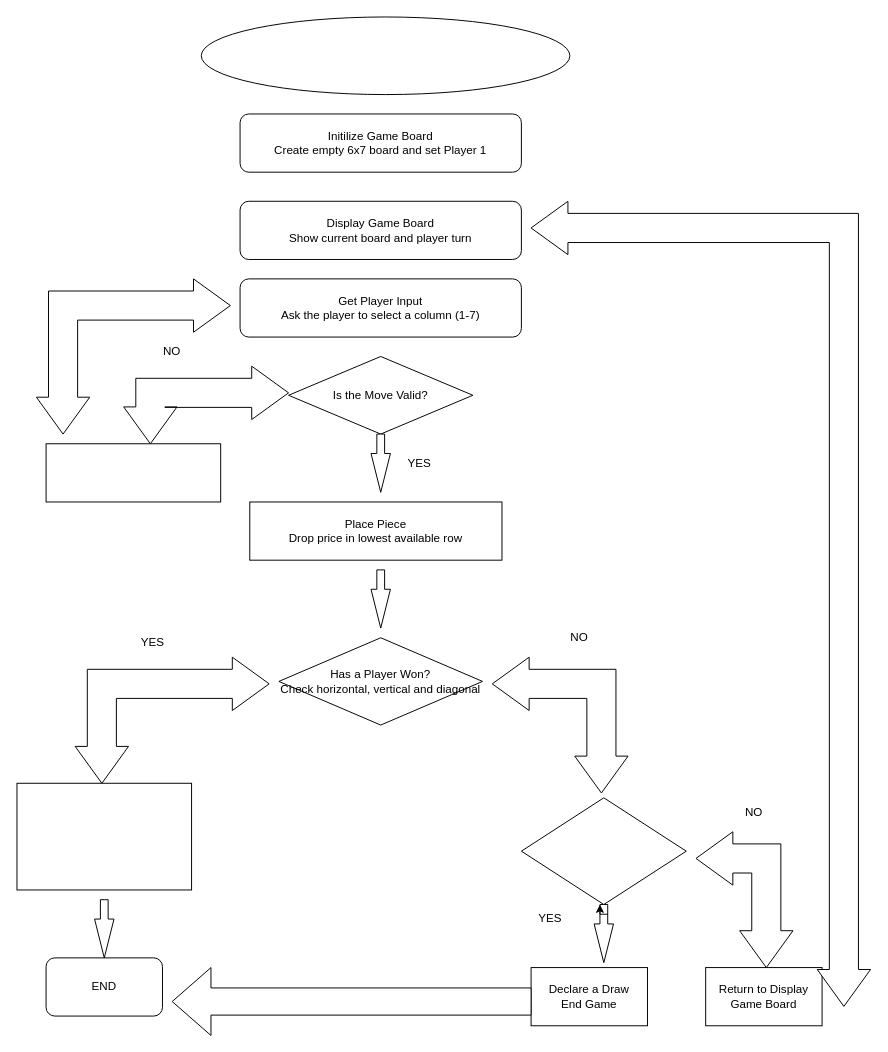
This 888x1052 diagram has some shape labels left out. The box of each missing label's shape, as (x1, y1, x2, y2) in pixels:
Display Error Ask for input again: (45, 443, 221, 502)
Display Winner End Game: (16, 782, 192, 890)
Is the Board Full?: (520, 797, 686, 905)
START Run connect4.sh: (200, 16, 570, 95)
